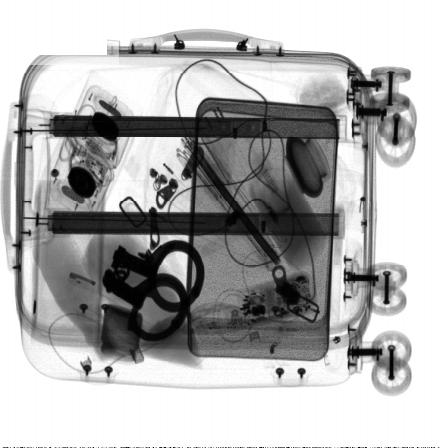HandCuffs: (100, 239, 206, 342)
